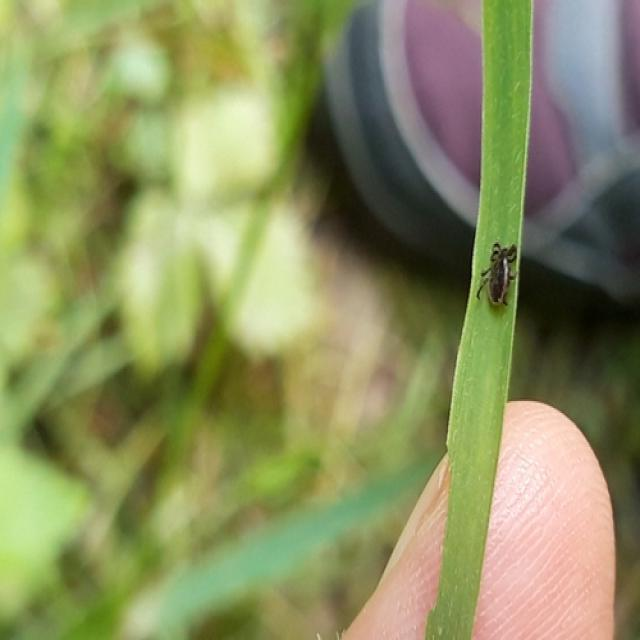Ixodes Ricinus-M: (476, 242, 516, 307)
